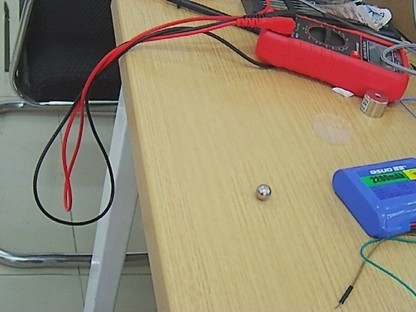ironball: (248, 178, 274, 203)
